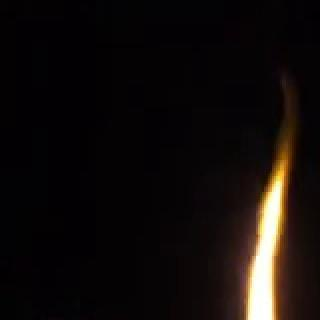fire: (231, 165, 305, 320)
